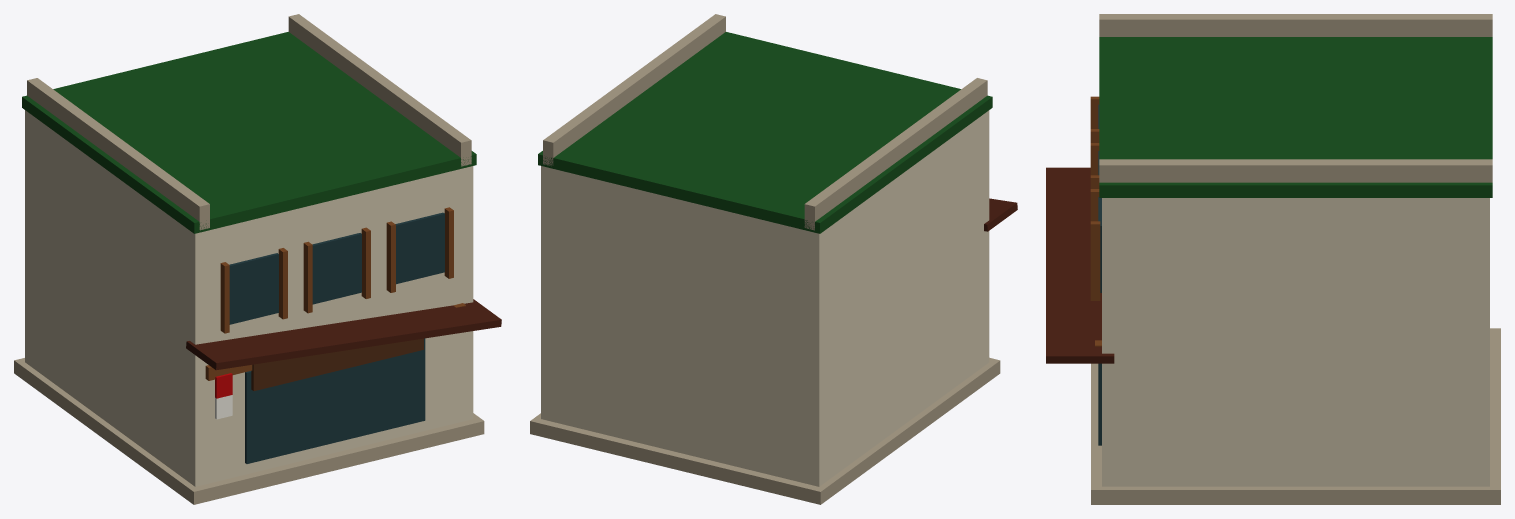
File: Ruko.obj
3 views of the same model, side by side, from view 1: azimuth 30°, elevation 25°; view 2: azimuth 150°, elevation 25°; view 3: azimuth 270°, elevation 25° (orthographic). The views are drawn at different scales.
Parts seen in each view (by area): view 1: BODY, ROOF_DECK, SHOP_GLASS, PLINTH, CANOPY, PARAPET_X_3.15, PARAPET_X_-3.15, SIGN_BAND, UP_WINDOW_-2.0, UP_WINDOW_0, UP_WINDOW_2.0, LOUVER_L_0 (+5 smaller); view 2: BODY, ROOF_DECK, PLINTH, PARAPET_X_-3.15, PARAPET_X_3.15, CANOPY; view 3: BODY, ROOF_DECK, PLINTH, CANOPY, PARAPET_X_3.15, PARAPET_X_-3.15, LOUVER_R_2.0.
Boxes of the visible parts, box(x1,y1,x2,y2) form: BODY: box(25, 110, 473, 486); ROOF_DECK: box(22, 32, 476, 233); SHOP_GLASS: box(245, 338, 425, 463); PLINTH: box(14, 358, 484, 504); CANOPY: box(186, 299, 501, 370); PARAPET_X_3.15: box(288, 14, 471, 166); PARAPET_X_-3.15: box(27, 78, 209, 230); SIGN_BAND: box(251, 338, 423, 390); UP_WINDOW_-2.0: box(229, 253, 278, 324); UP_WINDOW_0: box(312, 233, 361, 304); UP_WINDOW_2.0: box(395, 212, 444, 284); LOUVER_L_0: box(303, 241, 312, 313); BODY: box(541, 110, 989, 486); ROOF_DECK: box(538, 32, 992, 233); PLINTH: box(530, 357, 1000, 504); PARAPET_X_-3.15: box(804, 78, 987, 230); PARAPET_X_3.15: box(543, 14, 725, 166); CANOPY: box(984, 198, 1017, 231); BODY: box(1102, 198, 1489, 486); ROOF_DECK: box(1099, 37, 1492, 197); PLINTH: box(1091, 328, 1500, 504); CANOPY: box(1046, 167, 1114, 363); PARAPET_X_3.15: box(1099, 159, 1492, 182); PARAPET_X_-3.15: box(1099, 14, 1492, 36); LOUVER_R_2.0: box(1090, 221, 1100, 300).
Bounding box in the file's own units: 7 × 6.76 × 8.32.
